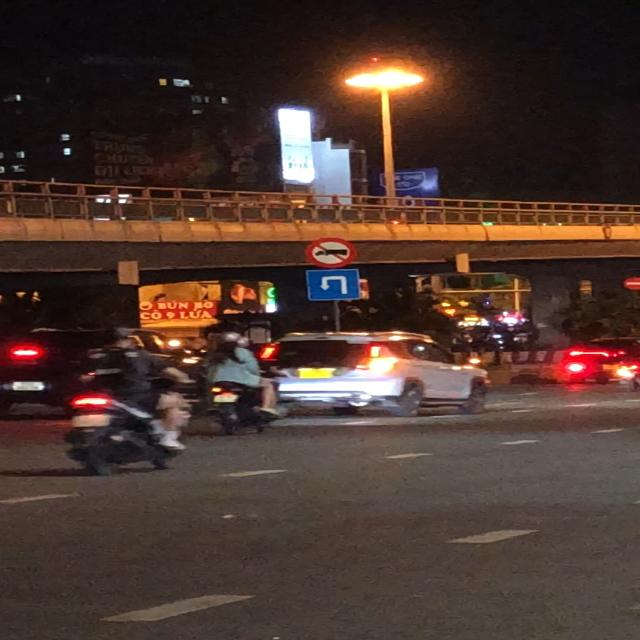Bien bao cam xe so-mi ro-mooc: (304, 236, 359, 270)
